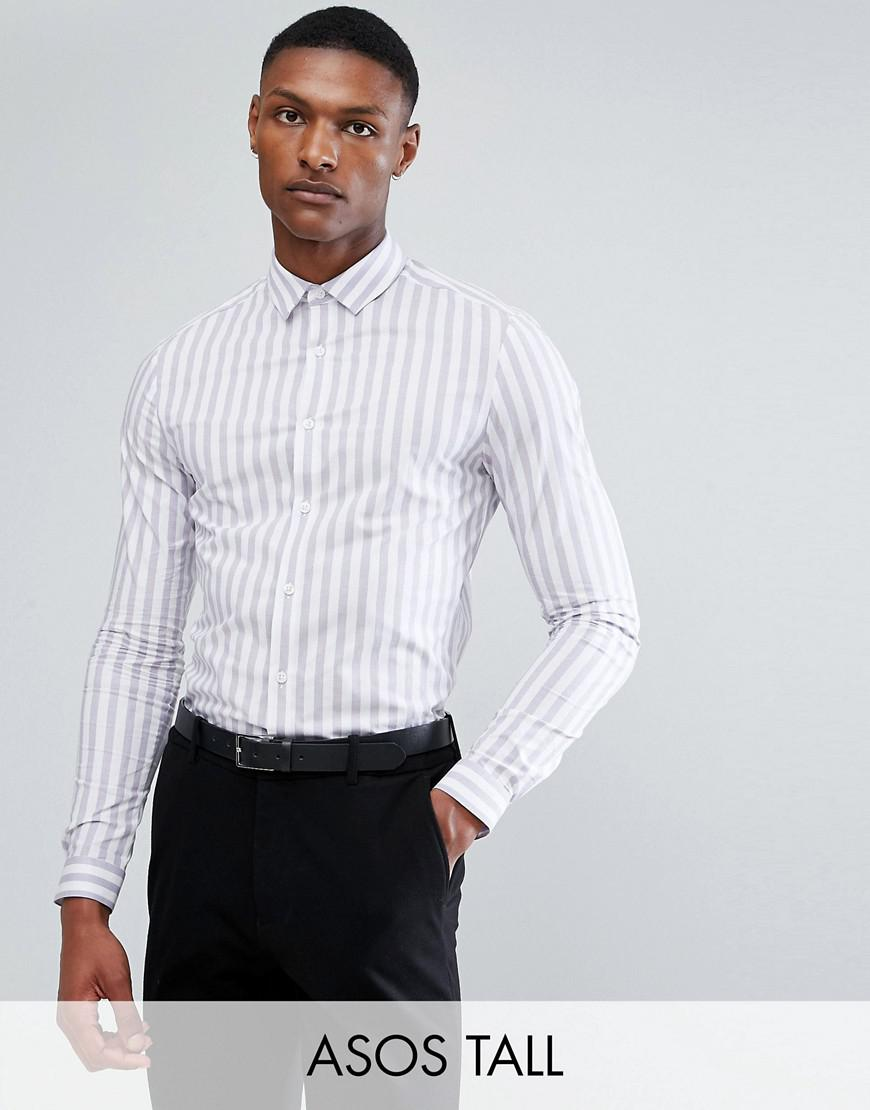teeshirt: (66, 257, 649, 896)
